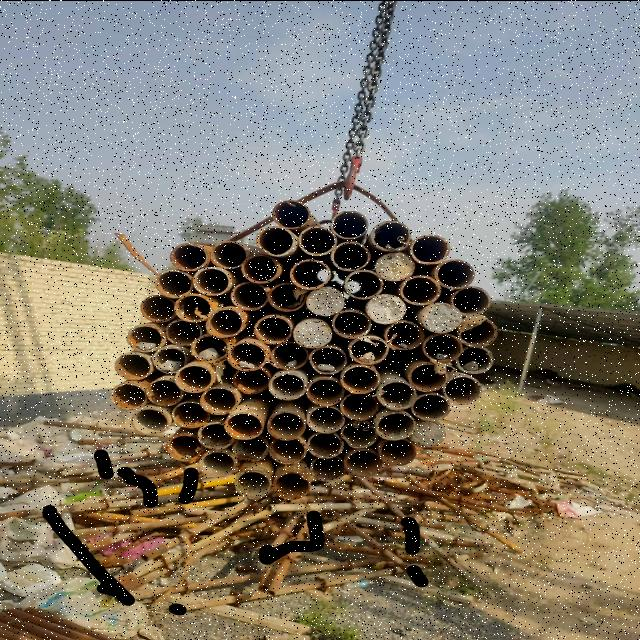pipe: (225, 340, 268, 370), (408, 233, 451, 263), (399, 274, 442, 304), (421, 300, 461, 332), (458, 314, 498, 346), (289, 258, 331, 288), (374, 410, 416, 440), (172, 292, 215, 321), (365, 292, 405, 323), (270, 198, 310, 228), (255, 225, 295, 255), (204, 307, 244, 337), (190, 332, 230, 362), (174, 362, 214, 392), (297, 224, 337, 254), (266, 280, 306, 310), (252, 314, 292, 344), (266, 410, 306, 440), (330, 240, 370, 270), (306, 285, 346, 315), (292, 317, 332, 347), (370, 219, 410, 249), (374, 250, 414, 280), (343, 268, 383, 298), (332, 308, 372, 338), (348, 334, 388, 364), (340, 363, 380, 393), (384, 319, 424, 349), (376, 379, 416, 409), (422, 331, 462, 361), (408, 361, 448, 391), (434, 258, 474, 288), (450, 285, 490, 315), (234, 467, 272, 497), (270, 339, 308, 369), (308, 344, 346, 374), (344, 447, 382, 477), (442, 374, 480, 404), (112, 351, 152, 379), (130, 406, 170, 434), (231, 364, 271, 392), (224, 410, 264, 438), (306, 404, 346, 432), (339, 391, 379, 419), (406, 418, 446, 446), (170, 241, 208, 270), (240, 253, 278, 282), (230, 280, 268, 309), (272, 469, 310, 498), (410, 392, 450, 419), (210, 240, 248, 268), (192, 266, 230, 294), (164, 318, 202, 346), (145, 377, 183, 405), (200, 385, 238, 413), (199, 448, 237, 476), (268, 371, 306, 399), (330, 209, 368, 237), (306, 376, 344, 404), (340, 419, 378, 447), (378, 436, 416, 464), (156, 269, 193, 297), (166, 432, 203, 460), (126, 324, 164, 351), (110, 381, 146, 409), (151, 344, 187, 372), (456, 344, 492, 372), (197, 421, 234, 448), (171, 400, 209, 426), (232, 434, 270, 460), (268, 436, 306, 462), (306, 431, 344, 457), (309, 454, 347, 480), (140, 294, 176, 321)
